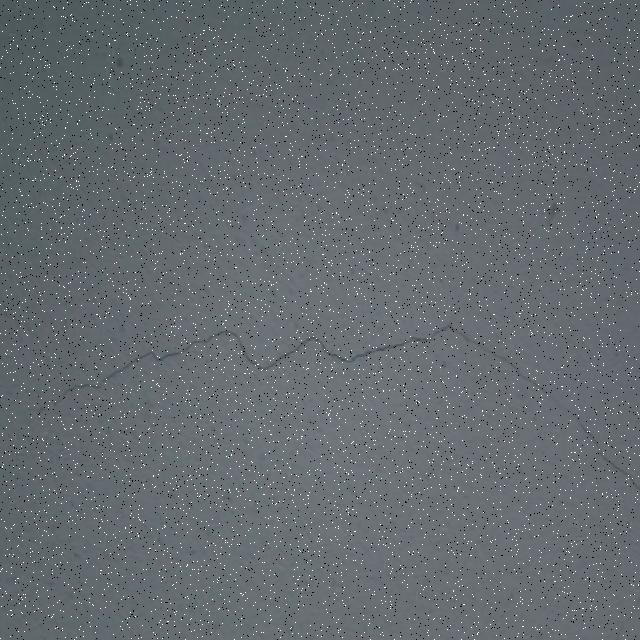moderate crack: (570, 414, 635, 496)
severe crack: (42, 314, 638, 501), (78, 326, 263, 386), (230, 321, 454, 368), (44, 376, 181, 432), (449, 324, 536, 373)
